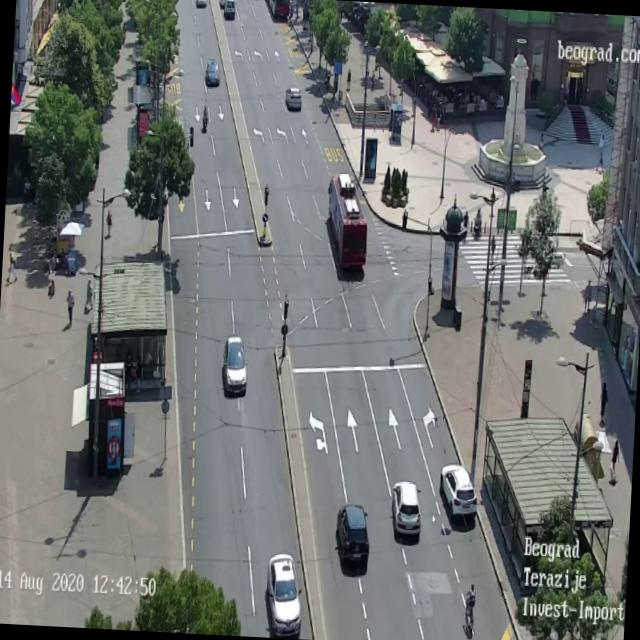bus: (324, 172, 371, 272), (267, 0, 291, 20)
car: (263, 552, 305, 638), (334, 502, 372, 566), (438, 463, 479, 522), (389, 480, 424, 541), (220, 334, 250, 396), (284, 85, 302, 112), (205, 58, 221, 86), (222, 0, 235, 20), (196, 0, 207, 11)
